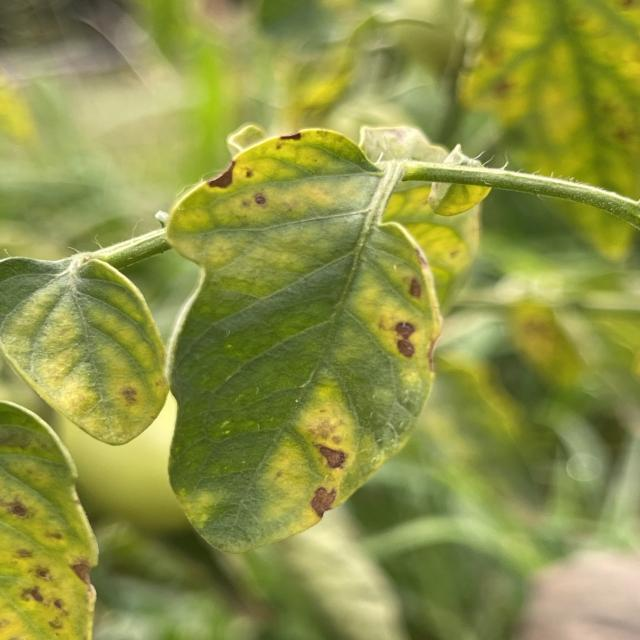tomato_early blight: (165, 129, 442, 552), (0, 253, 167, 445), (0, 401, 96, 640)
